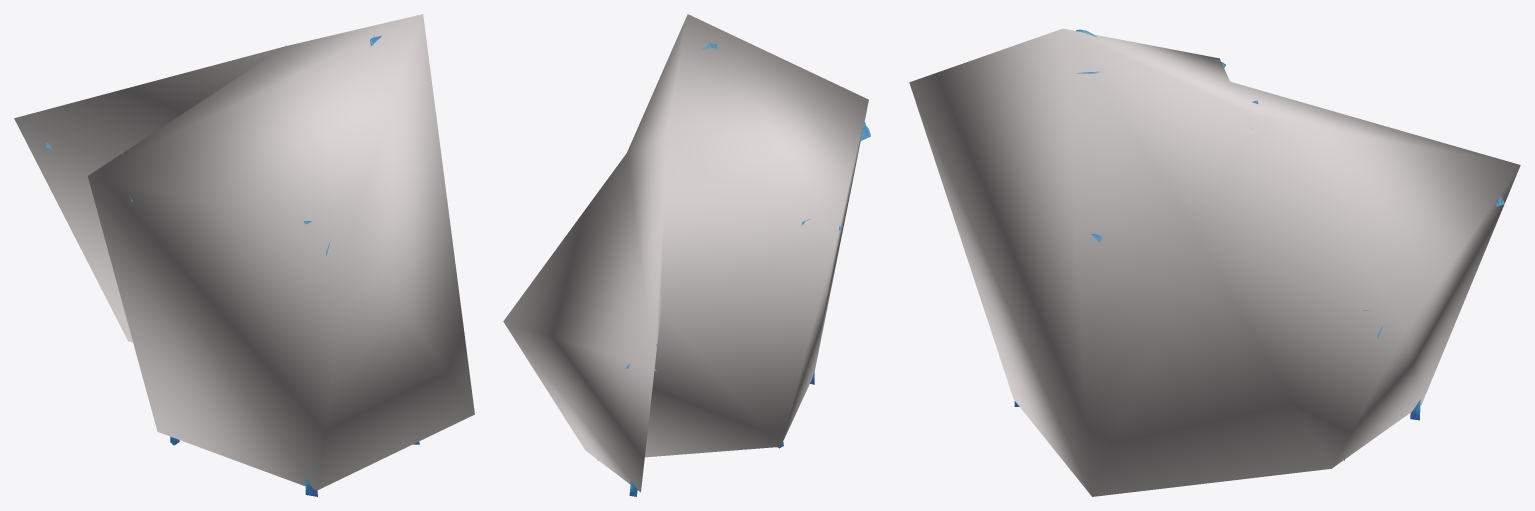
File: Homeworld_Exterior_Dq_Plant_Grass_01_Lod0.fbx
The picture shows the model from 3 angles, left to right: view 1: azimuth 30°, elevation 25°; view 2: azimuth 150°, elevation 25°; view 3: azimuth 270°, elevation 25°; orthographic projection. The views are drawn at different scales.
Visible parts, largest first — view 1: EffectMesh; view 2: EffectMesh, Area_Dq_Grass_Common_SmallRush_05_Lod0; view 3: EffectMesh.
Part boxes in pixels (x1=…): EffectMesh: x1=14, y1=14, x2=474, y2=490; EffectMesh: x1=503, y1=14, x2=868, y2=492; Area_Dq_Grass_Common_SmallRush_05_Lod0: x1=597, y1=42, x2=870, y2=496; EffectMesh: x1=909, y1=28, x2=1520, y2=496.
Bounding box in the file's own units: 0.8792 × 1.13 × 1.41.
